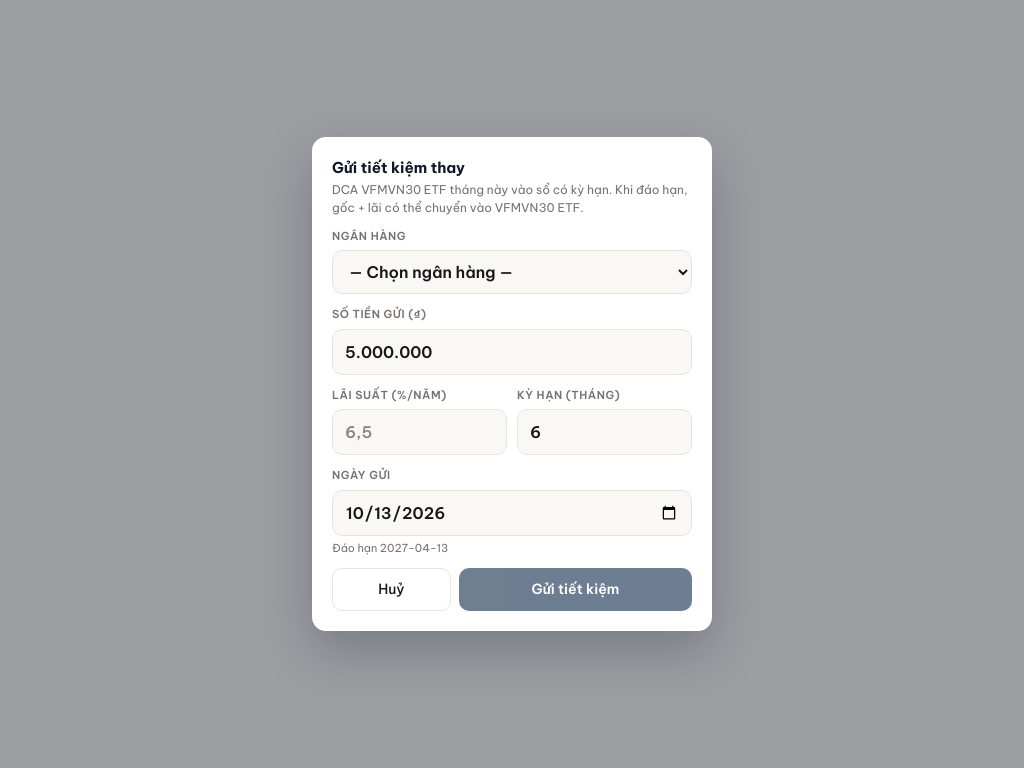
it: ParkDcaSheet › shows the server's refusal and stays open
Type "6" into the field with test id "park-dca-rate" at (420, 432), box 332,409 -> 507,455
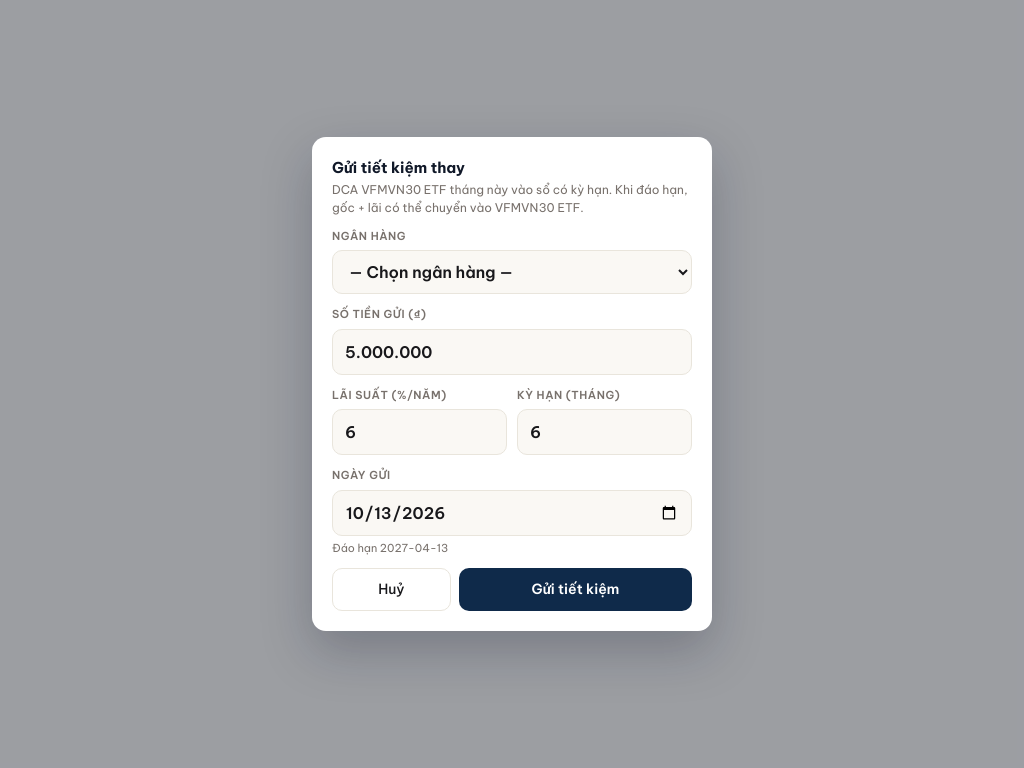
Click the button with test id "park-dca-submit" at (575, 590), box 459,568 -> 692,611
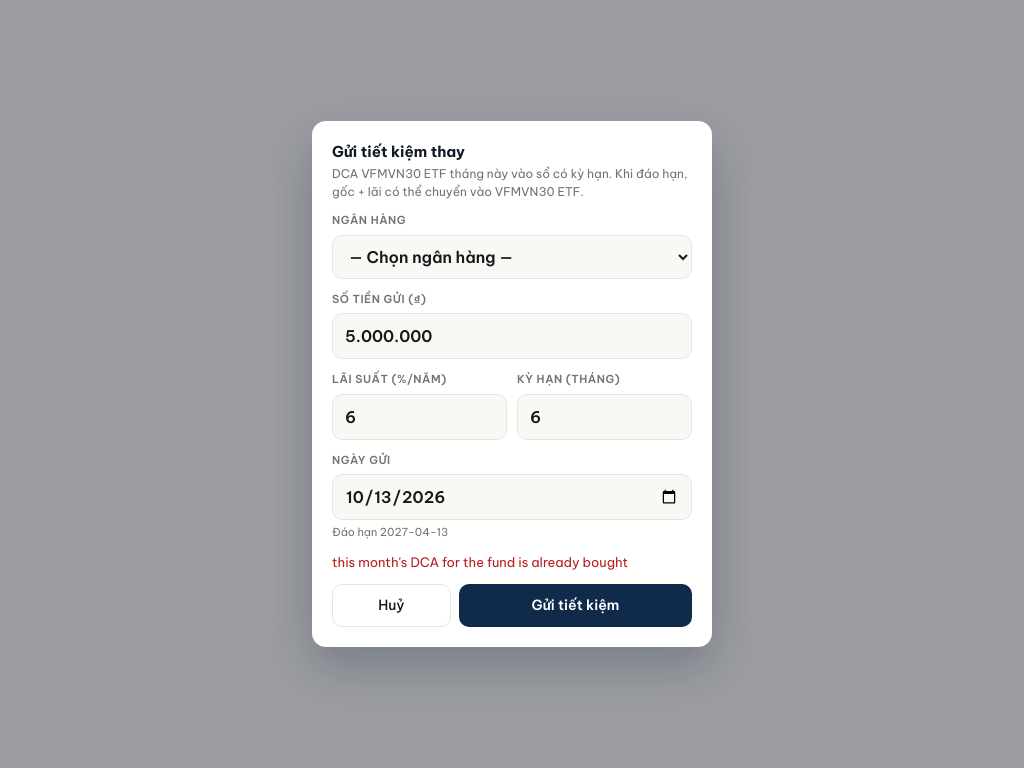
Expected: the text "this month's DCA for the fund is already bought" is shown, 332,554 -> 628,570
